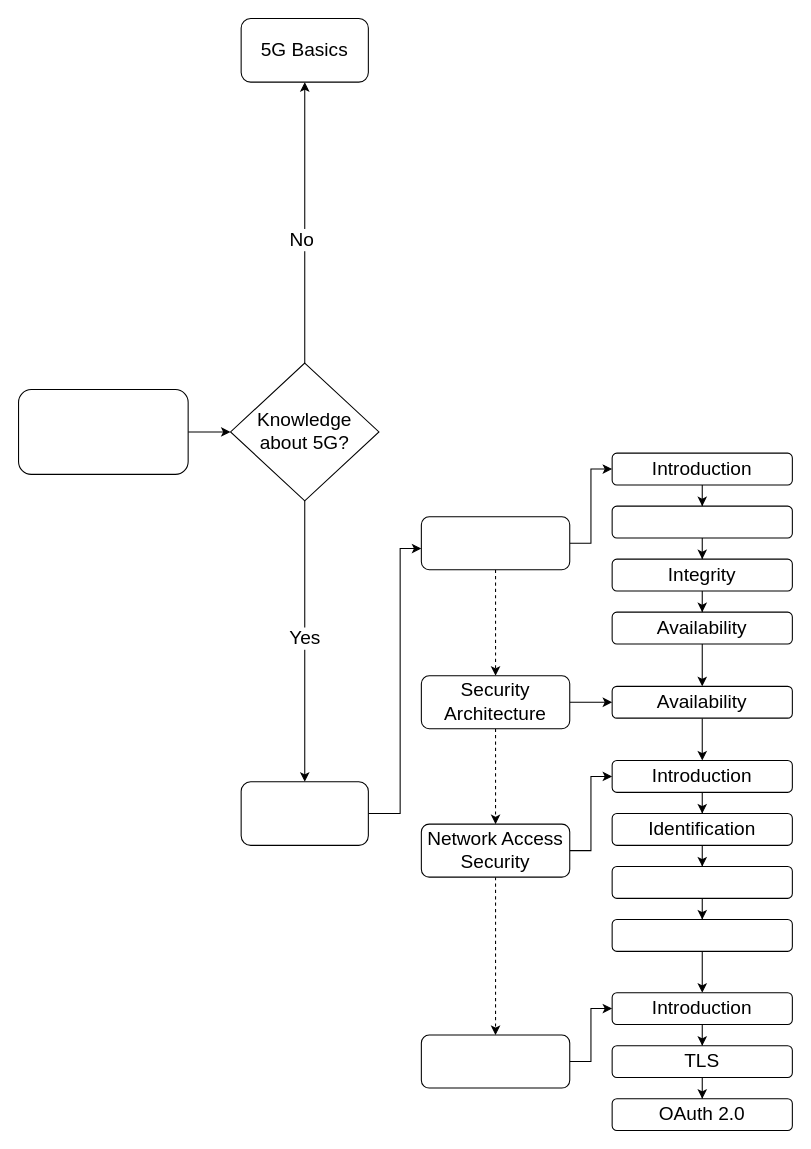
This 811x1149 diagram has some shape labels left out. The centre of each missing label's shape, as x and y in pixels:
"5G Security" belongs at pixel 304 813.
"5G Security Requirements" belongs at pixel 495 543.
"AKA" belongs at pixel 701 881.
"Confidentiality" belongs at pixel 701 521.
"Landing Page" belongs at pixel 102 431.
"SBA Domain Security" belongs at pixel 495 1061.
"Security Activation" belongs at pixel 701 934.
